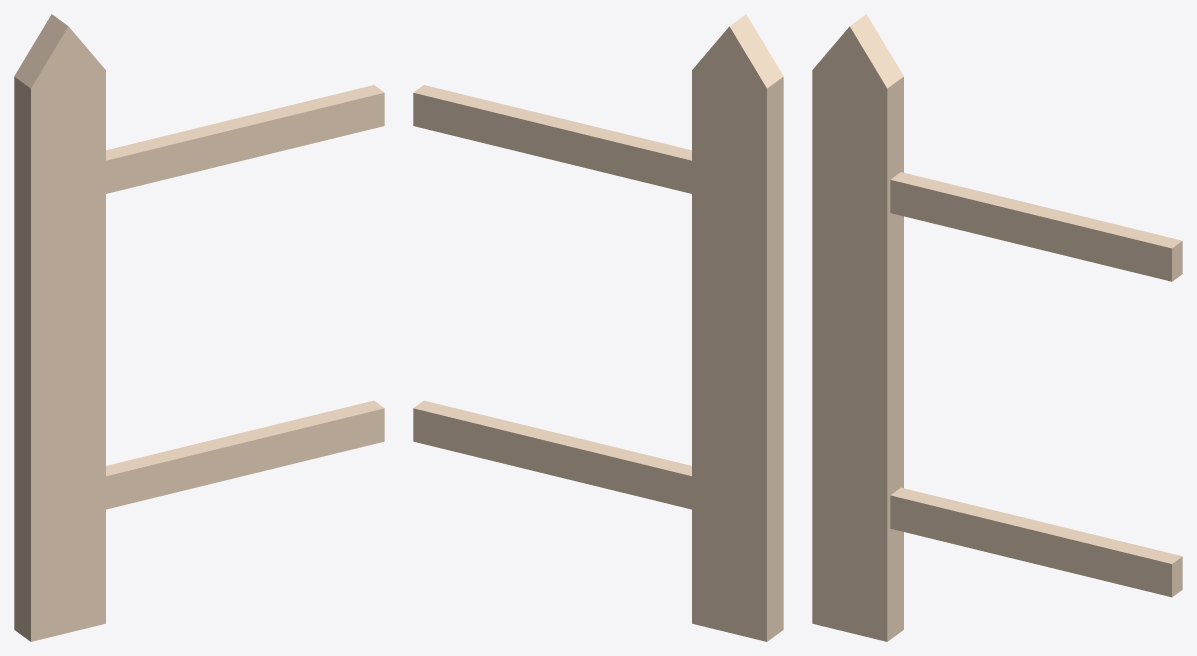
Rendered from Fence.fbx.
3 views of the same model, side by side, from view 1: azimuth 30°, elevation 25°; view 2: azimuth 150°, elevation 25°; view 3: azimuth 330°, elevation 25° (orthographic).
Visible parts, largest first — view 1: Cube.001; view 2: Cube.001; view 3: Cube.001.
Boxes of the visible parts, bbox=[...] form: Cube.001: bbox=[14, 14, 384, 641]; Cube.001: bbox=[413, 14, 783, 641]; Cube.001: bbox=[812, 14, 1182, 641].
Bounding box in the file's own units: 950 × 1543 × 77.16.
1 material, 1 textured.
